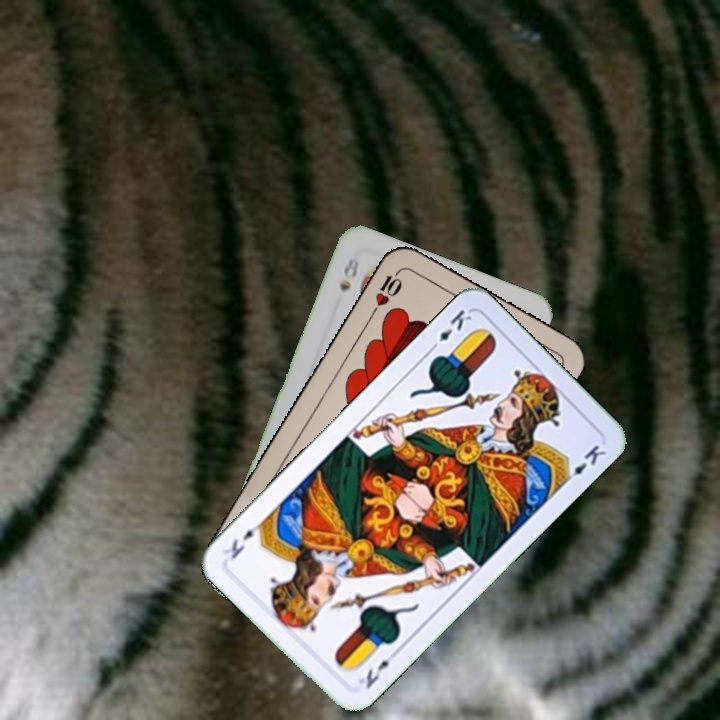EK: (425, 305, 475, 354), (354, 645, 401, 692)
H10: (368, 264, 406, 317)
S8: (335, 252, 362, 294)
